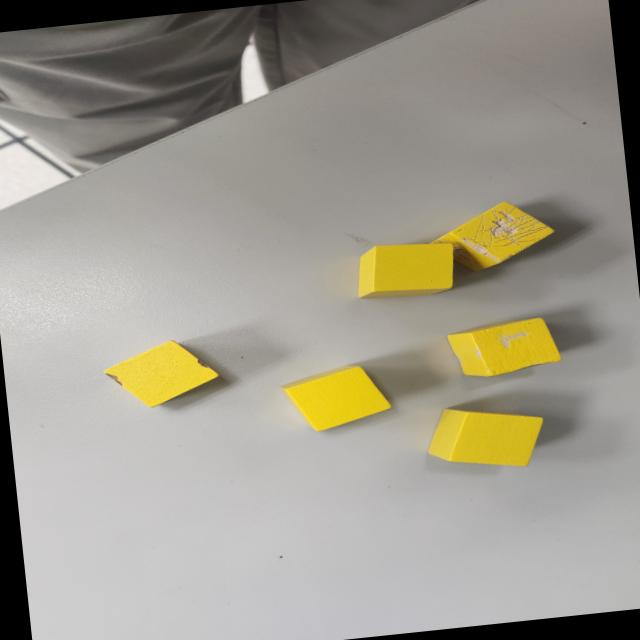broken: (424, 196, 559, 277), (97, 336, 220, 412), (445, 316, 561, 380)
yellow: (420, 398, 550, 478), (277, 360, 394, 436), (350, 237, 460, 303)
